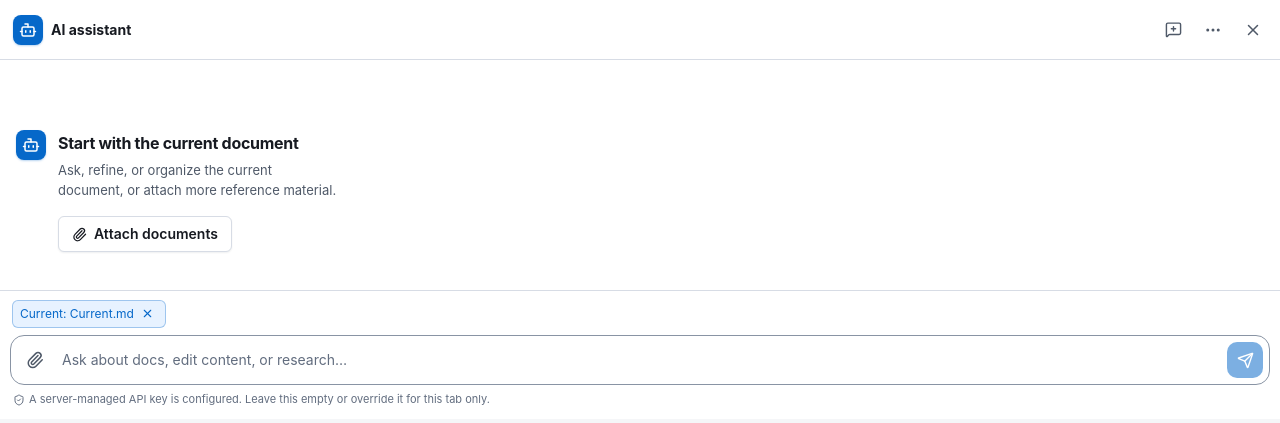
Scenario: ChatPanel › lets the user remove the automatic current-file context before sending
The width and height of the screenshot is (1280, 423).
Check: the text "Current: Current.md" is shown, box x1=12 y1=300 x2=166 y2=328
Click the button named "Remove: Current.md": (148,314) x1=138 y1=304 x2=158 y2=324
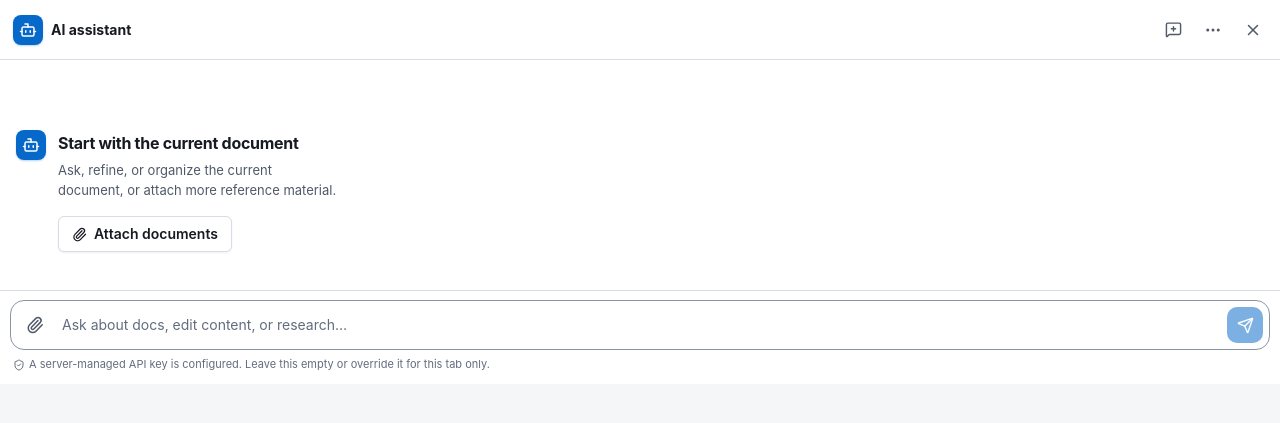
Check: the text "Current: Current.md" is gone
In the text box named "Message the AI assistant": (640,325) x1=58 y1=307 x2=1222 y2=343, type "Do not attach it"
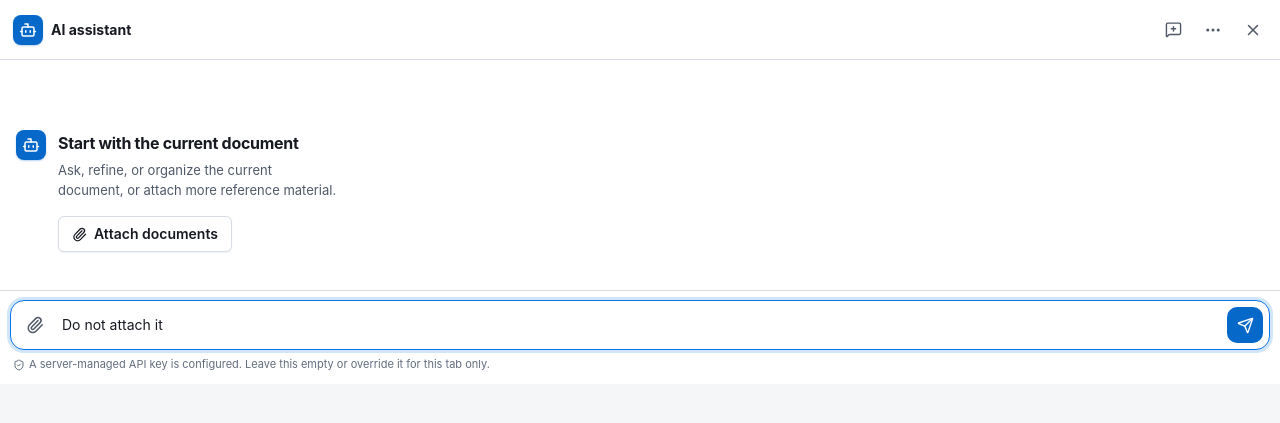
Click the button named "Send": (1245,325) x1=1227 y1=307 x2=1263 y2=343
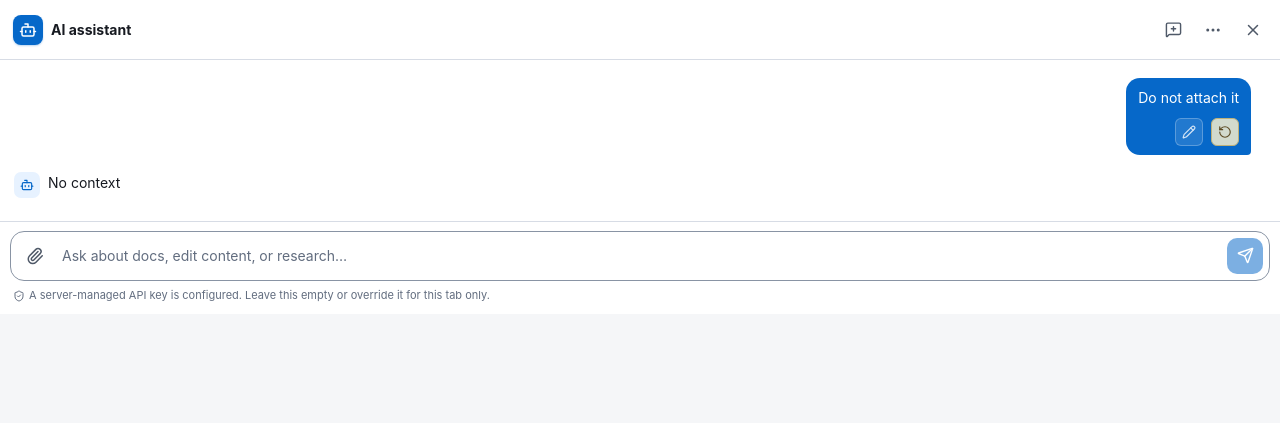
Check: the text "No context" is shown, box x1=48 y1=172 x2=120 y2=194
